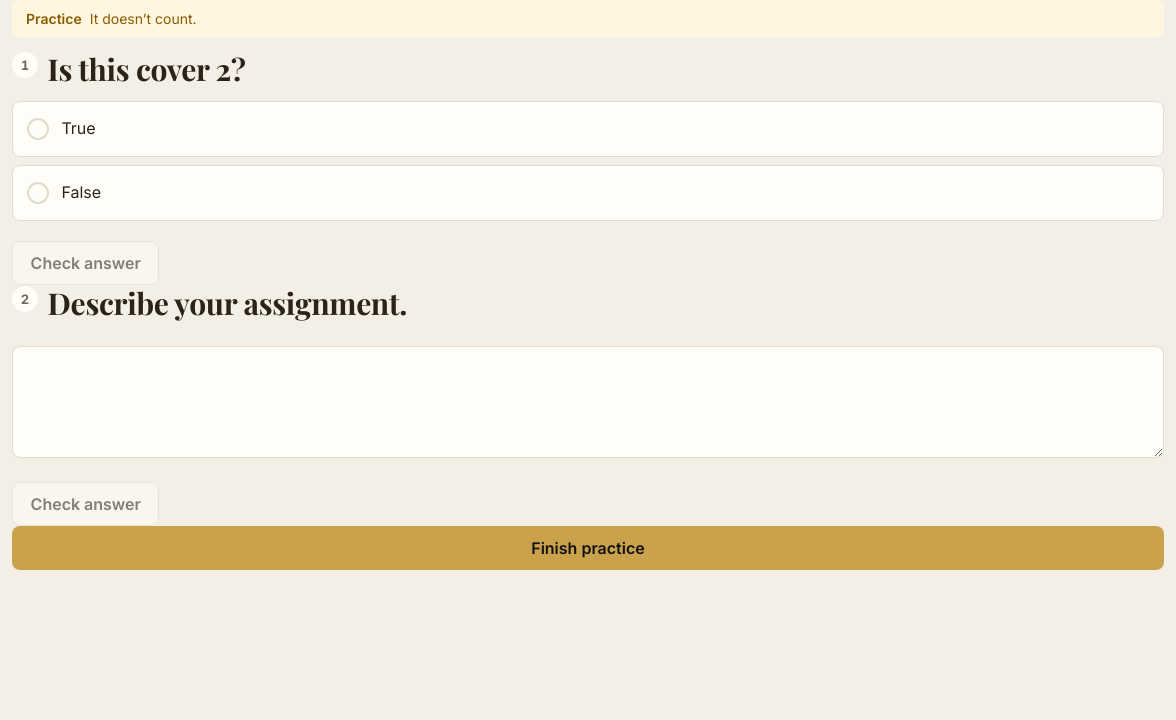
it: Practice Mode player flow › offers no Check Answer until the question has been answered
Expected: the button "Check answer" below "False" is disabled, [12,241,160,285]
Step 1. Click the radio button labelled "True" → (38,129), box [27,118,49,140]
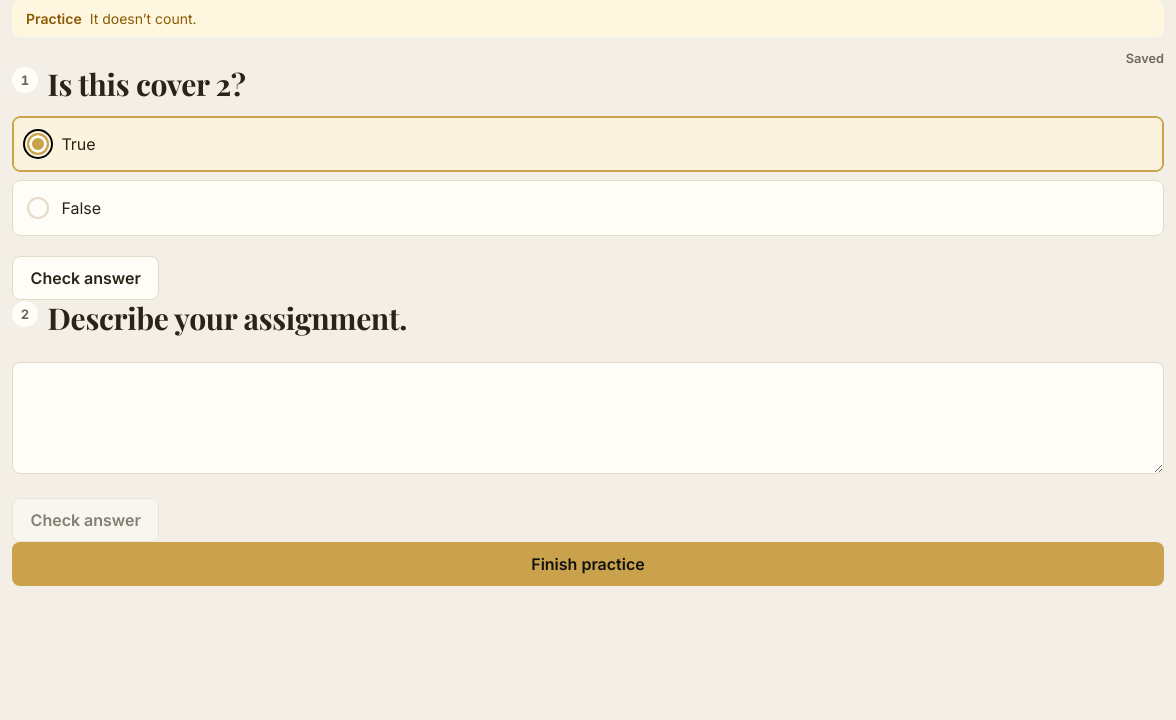
Expected: the button "Check answer" below "False" is enabled, [12,256,160,300]
